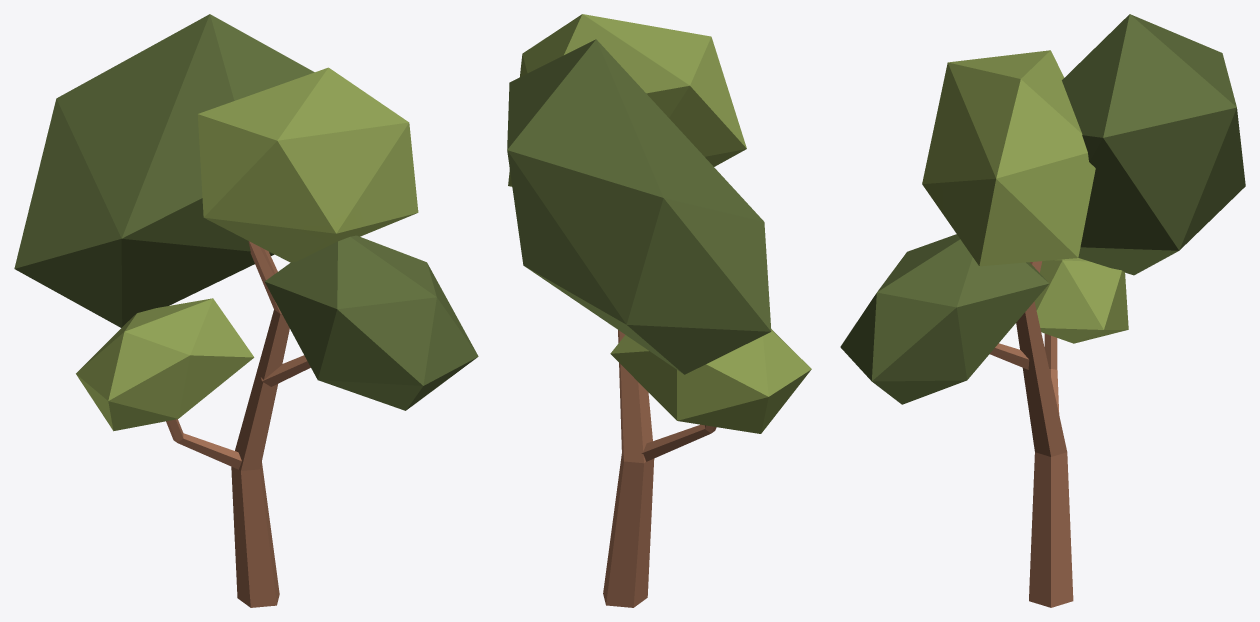
The model's file is tree.glb.
3 renders of one model, left to right at view 1: azimuth 30°, elevation 25°; view 2: azimuth 150°, elevation 25°; view 3: azimuth 270°, elevation 25°, orthographic. The views are drawn at different scales.
Parts seen in each view (by area): view 1: tree01; view 2: tree01; view 3: tree01.
Boxes of the visible parts, x1,y1,x2,y2 form: tree01: [14, 14, 478, 607]; tree01: [507, 14, 811, 607]; tree01: [840, 14, 1245, 607].
Size of the model in its own units: 308 by 509 by 324.
Materials: 1 (1 with a texture image).
